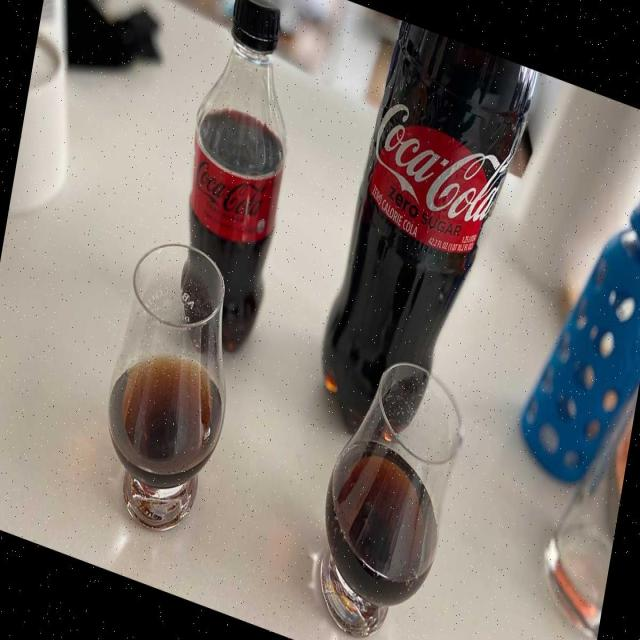coca-cola: (304, 14, 541, 486), (158, 0, 316, 364)
